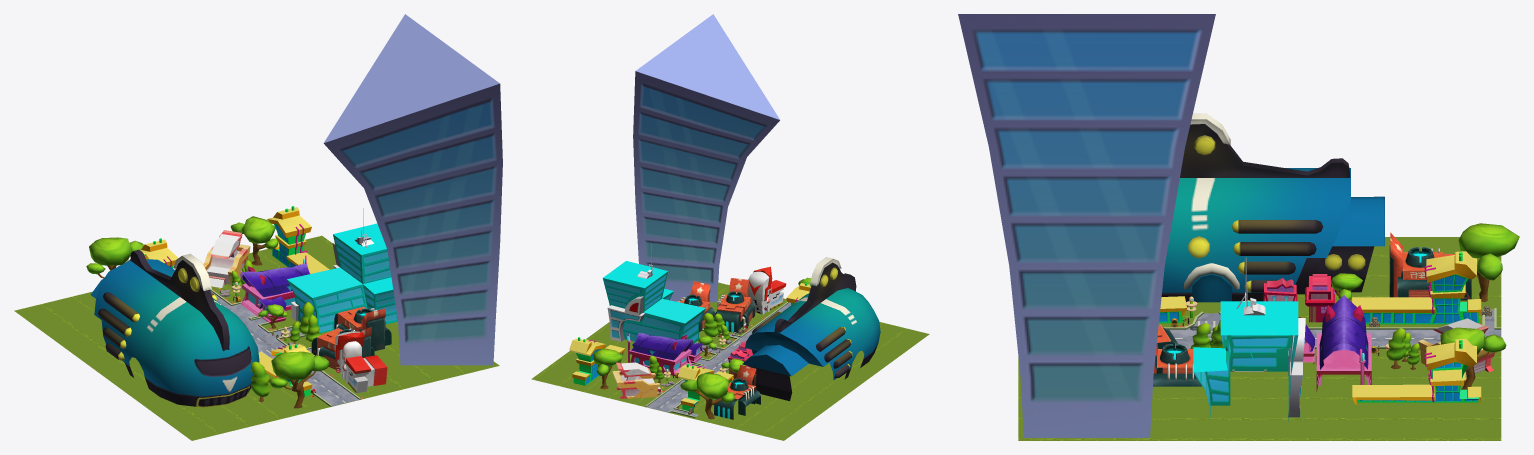
Rendered from scene_city_01.FBX.
3 views of the same model, side by side, from view 1: azimuth 30°, elevation 25°; view 2: azimuth 150°, elevation 25°; view 3: azimuth 270°, elevation 25° (orthographic). The views are drawn at different scales.
Visible parts, largest first — view 1: scene_city_01; view 2: scene_city_01; view 3: scene_city_01.
Part boxes in pixels (x1,y1,x2,y2): scene_city_01: (14,14,502,440); scene_city_01: (531,14,929,440); scene_city_01: (958,14,1519,440).
Size of the model in its own units: 10000 by 9512 by 11641.
